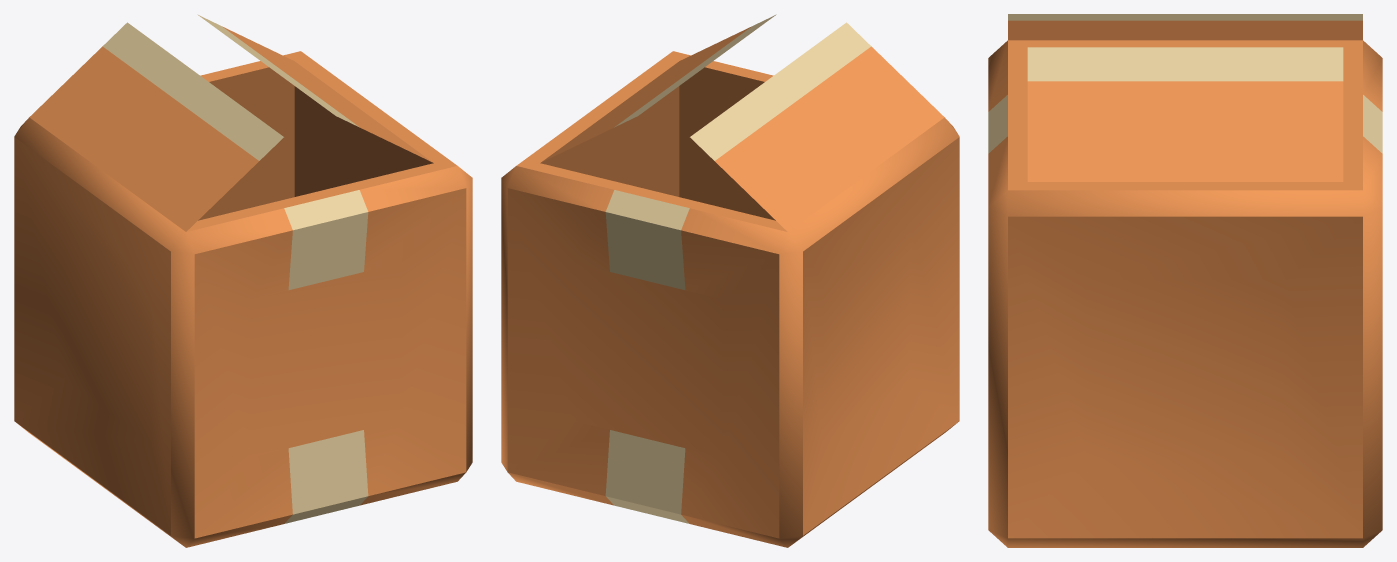
Rendered from boxOpen.glb.
3 views of the same model, side by side, from view 1: azimuth 30°, elevation 25°; view 2: azimuth 150°, elevation 25°; view 3: azimuth 270°, elevation 25° (orthographic). The views are drawn at different scales.
Visible parts, largest first — view 1: boxOpen; view 2: boxOpen; view 3: boxOpen.
Part boxes in pixels (x1=…): boxOpen: x1=14, y1=14, x2=472, y2=547; boxOpen: x1=501, y1=14, x2=959, y2=547; boxOpen: x1=988, y1=14, x2=1382, y2=547.
Bounding box in the file's own units: 0.25 × 0.3063 × 0.25.
